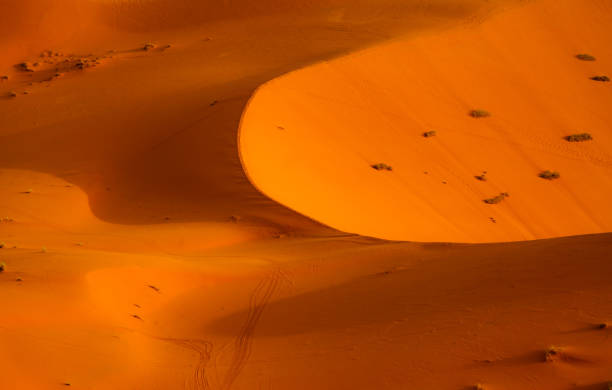animal_footprint: (221, 269, 281, 389), (159, 338, 212, 389), (0, 263, 15, 282)
